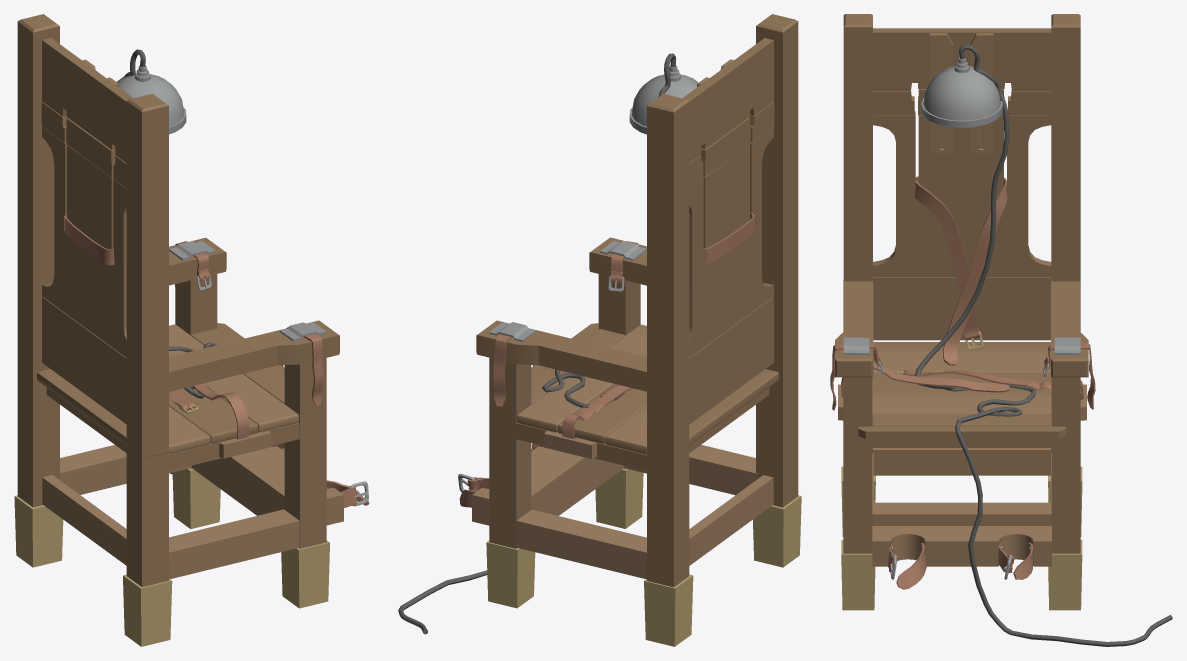
The model's file is echair.glb.
3 views of the same model, side by side, from view 1: azimuth 30°, elevation 25°; view 2: azimuth 150°, elevation 25°; view 3: azimuth 270°, elevation 25° (orthographic). The views are drawn at different scales.
Parts seen in each view (by area): view 1: pCube87, pCylinder13, pCube39, pPlane2, pCube88, pPlane6, polySurface4, pCylinder12; view 2: pCube87, pCylinder12, pCylinder13, pCube39, pPlane5, pCube88, pPlane7, polySurface5; view 3: pCube87, pCylinder12, pCube88, pCylinder13, pCube39, pCube65, pCube66, pPlane2, pPlane5, polySurface4, polySurface5, pPlane7.
Part boxes in pixels (<box>): pCube87: <box>14,14,343,646</box>; pCylinder13: <box>117,65,186,134</box>; pCube39: <box>191,329,284,403</box>; pPlane2: <box>192,383,249,439</box>; pCube88: <box>64,215,114,265</box>; pPlane6: <box>286,324,323,405</box>; polySurface4: <box>326,480,369,507</box>; pCylinder12: <box>117,49,283,474</box>; pCube87: <box>472,14,801,646</box>; pCylinder12: <box>398,53,676,634</box>; pCylinder13: <box>629,65,698,134</box>; pCube39: <box>531,329,624,403</box>; pPlane5: <box>562,385,632,438</box>; pCube88: <box>703,213,756,263</box>; pPlane7: <box>493,334,511,406</box>; polySurface5: <box>458,473,489,507</box>; pCube87: <box>835,14,1088,610</box>; pCylinder12: <box>915,44,1172,646</box>; pCube88: <box>914,176,1007,365</box>; pCylinder13: <box>921,57,1002,127</box>; pCube39: <box>872,413,1051,426</box>; pCube65: <box>930,33,953,153</box>; pCube66: <box>970,33,993,153</box>; pPlane2: <box>841,362,1009,397</box>; pPlane5: <box>896,370,1083,399</box>; polySurface4: <box>888,543,926,589</box>; polySurface5: <box>998,542,1033,579</box>; pPlane7: <box>1042,343,1095,409</box>.
Bounding box in the file's own units: 0.0233 × 0.0469 × 0.0281.
